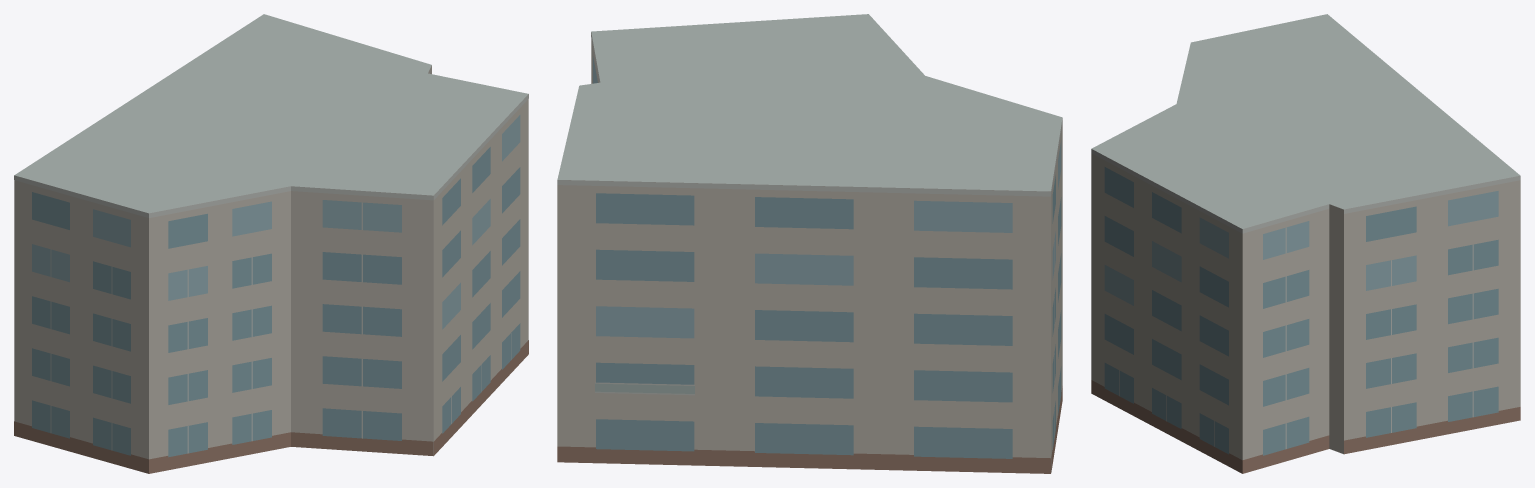
File: survey-upis-32772007.glb
3 renders of one model, left to right at view 1: azimuth 30°, elevation 25°; view 2: azimuth 150°, elevation 25°; view 3: azimuth 270°, elevation 25°, orthographic. The views are drawn at different scales.
Visible parts, largest first — view 1: survey-upis-32772007.tmp; view 2: survey-upis-32772007.tmp; view 3: survey-upis-32772007.tmp.
Boxes of the visible parts, x1,y1,x2,y2 form: survey-upis-32772007.tmp: (14, 14, 528, 473); survey-upis-32772007.tmp: (557, 14, 1062, 473); survey-upis-32772007.tmp: (1091, 14, 1520, 473).
Size of the model in its own units: 24.9 by 13.2 by 20.99.
